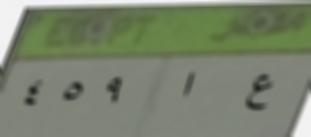4: (14, 76, 46, 115)
5: (61, 77, 85, 109)
9: (103, 70, 129, 110)
ain: (243, 62, 272, 122)
alif: (176, 64, 200, 105)
